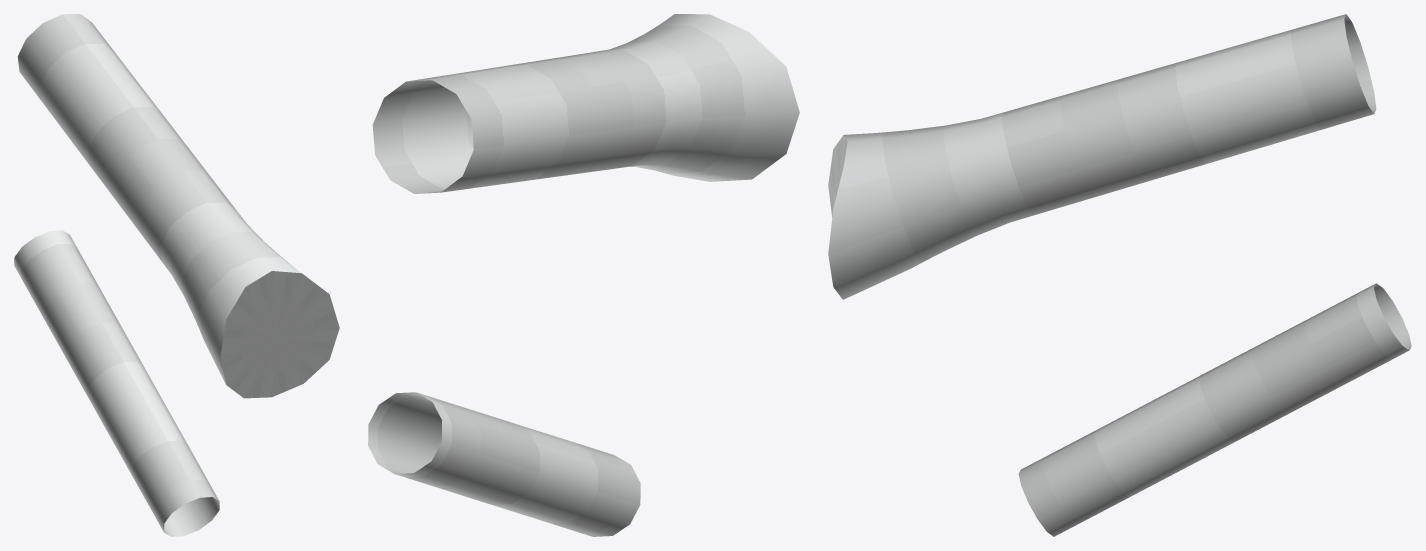
The model's file is luminairearm_truss12ftstraight_c0.obj.
The picture shows the model from 3 angles, left to right: view 1: azimuth 30°, elevation 25°; view 2: azimuth 150°, elevation 25°; view 3: azimuth 270°, elevation 25°; orthographic projection. The views are drawn at different scales.
Visible parts, largest first — view 1: luminairearm_truss12ftstraight_c0; view 2: luminairearm_truss12ftstraight_c0; view 3: luminairearm_truss12ftstraight_c0.
Part boxes in pixels (x1,y1,x2,y2): luminairearm_truss12ftstraight_c0: (14,14,339,536); luminairearm_truss12ftstraight_c0: (368,14,799,536); luminairearm_truss12ftstraight_c0: (828,14,1411,536).
Bounding box in the file's own units: 0.3375 × 1.17 × 1.2.
